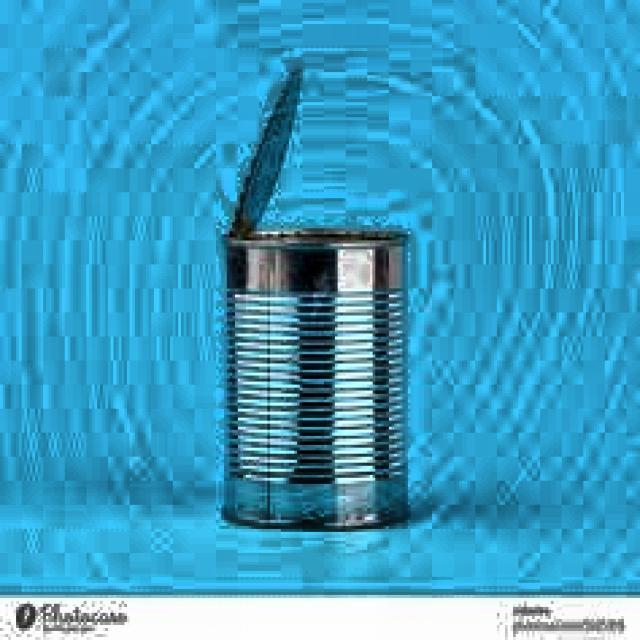can: (219, 52, 417, 543)
